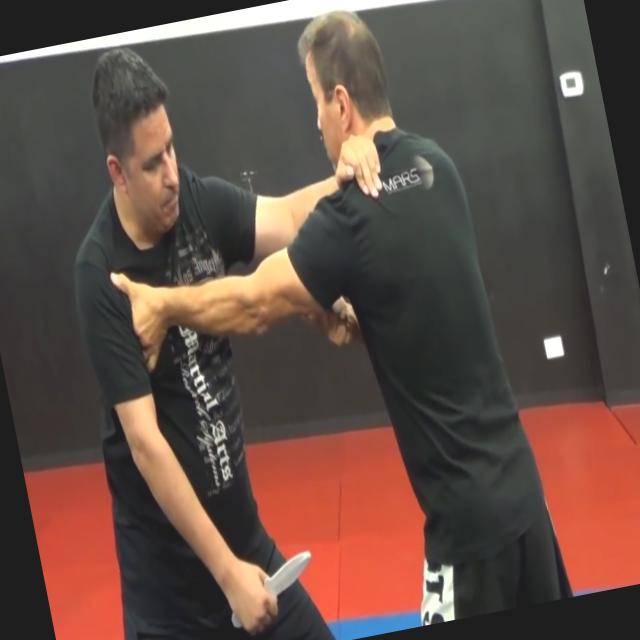knife: (215, 539, 328, 637)
